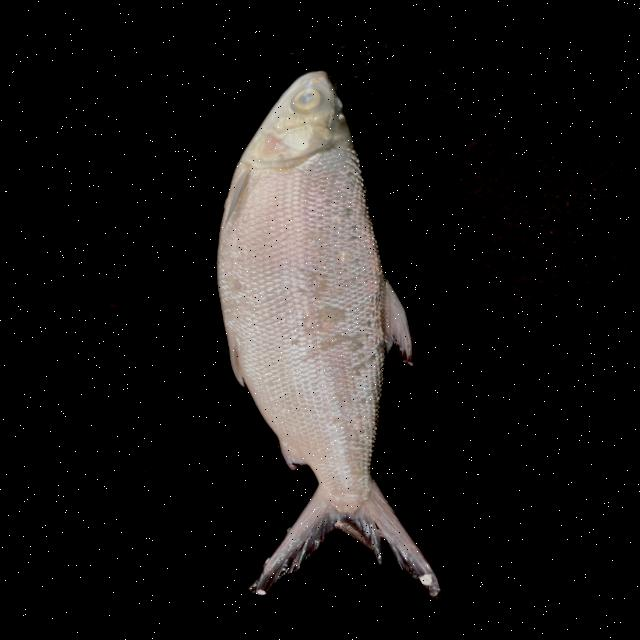890 g: (203, 64, 442, 613)
